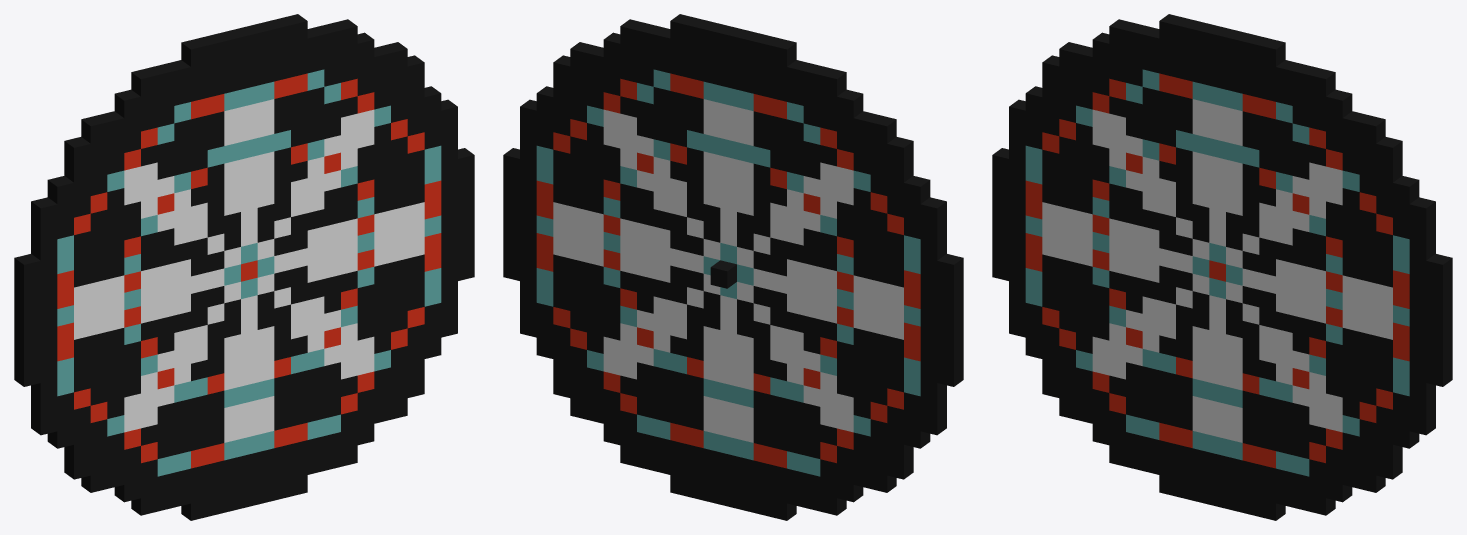
File: shield.obj
The picture shows the model from 3 angles, left to right: view 1: azimuth 30°, elevation 25°; view 2: azimuth 150°, elevation 25°; view 3: azimuth 330°, elevation 25°; orthographic projection.
Parts seen in each view (by area): view 1: shield; view 2: shield; view 3: shield.
Boxes of the visible parts, x1,y1,x2,y2 form: shield: (14,14,474,520); shield: (503,14,963,520); shield: (992,14,1452,520).
Size of the model in its own units: 27 by 27 by 2.
1 material, 1 textured.
